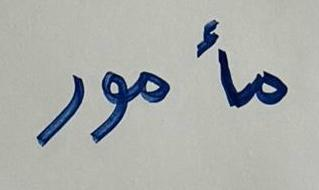hamza: (196, 16, 238, 119)
meem: (242, 53, 294, 123), (134, 63, 178, 124)
reh: (30, 56, 87, 157)
waw: (90, 61, 132, 153)
